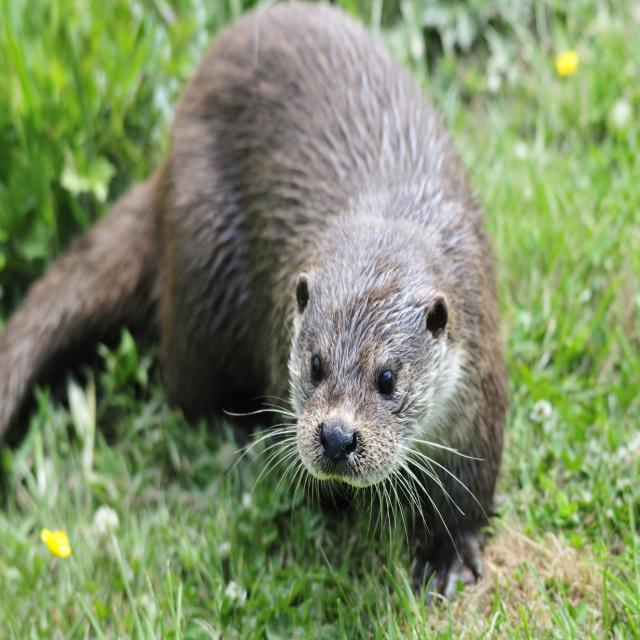otter: (166, 6, 501, 527)
